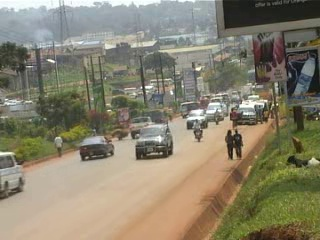Car: (134, 121, 174, 160), (77, 133, 116, 162), (185, 107, 209, 130), (205, 100, 223, 122), (220, 102, 230, 118)
Motorcycle: (111, 117, 129, 144), (191, 117, 205, 143), (212, 107, 222, 126)
